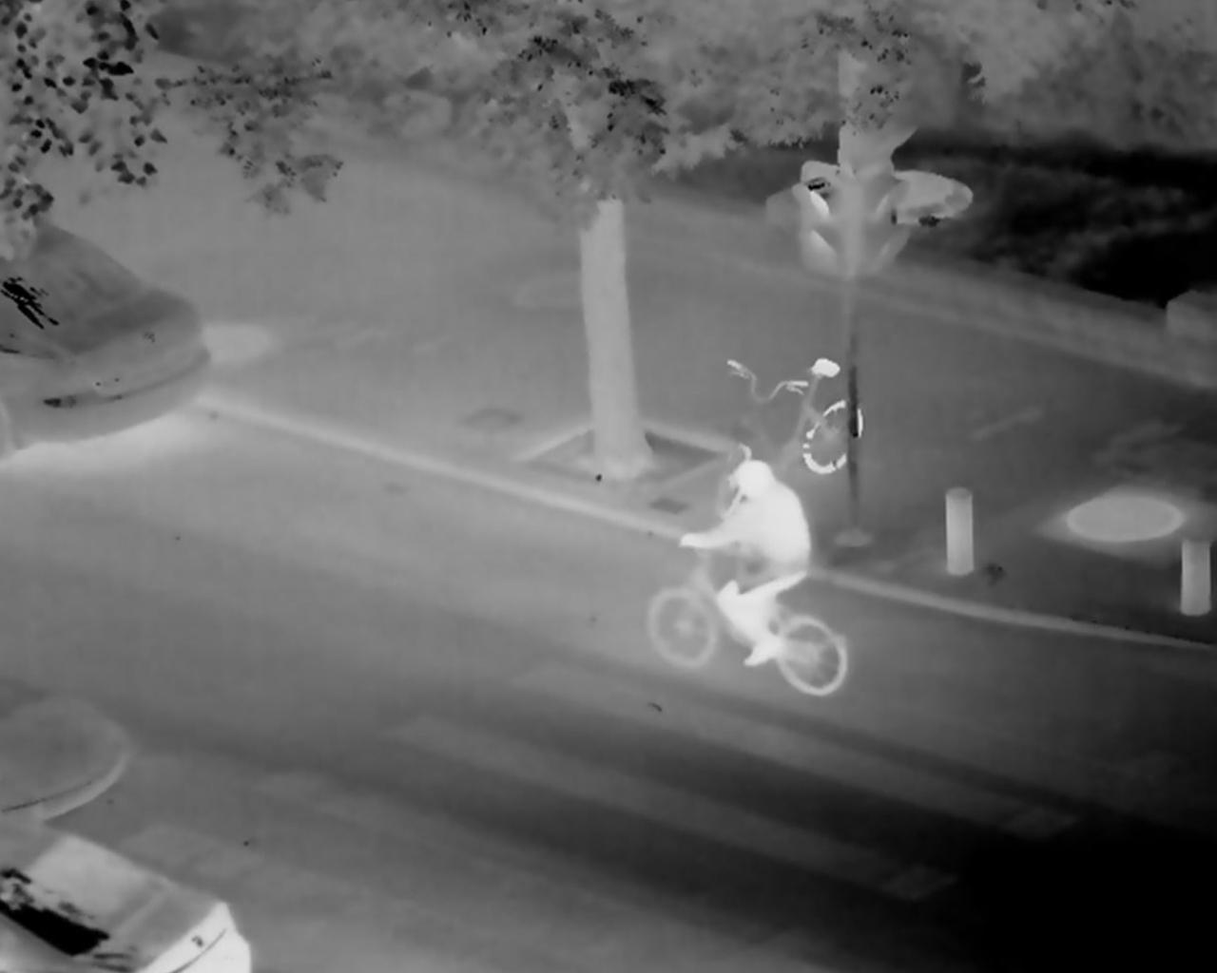person: (680, 458, 811, 677)
